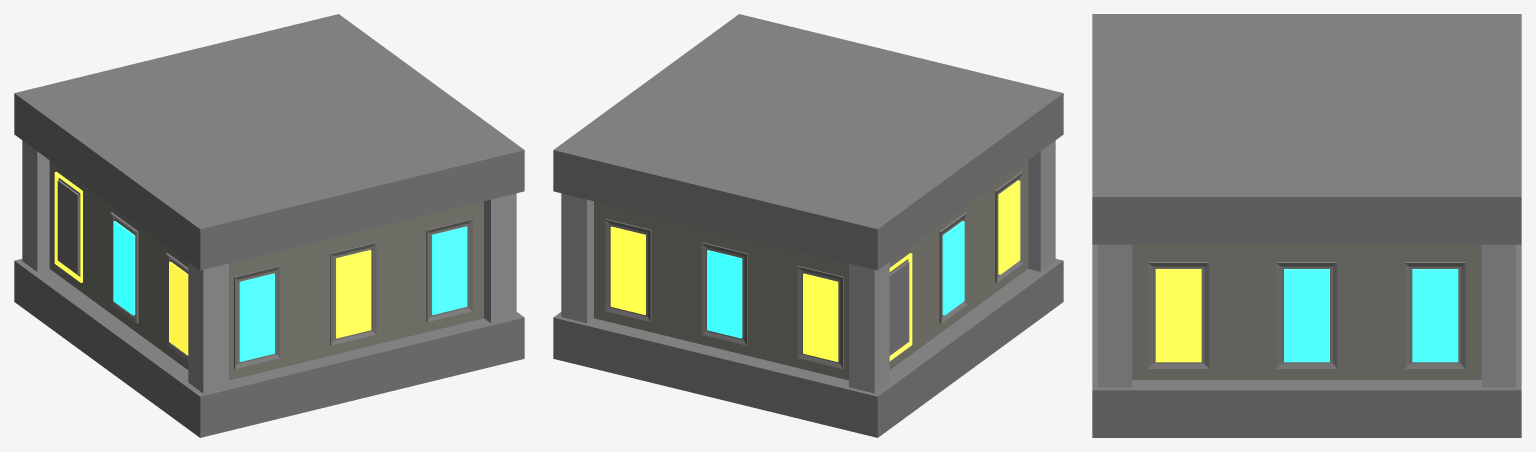
3 views of the same model, side by side, from view 1: azimuth 30°, elevation 25°; view 2: azimuth 150°, elevation 25°; view 3: azimuth 270°, elevation 25° (orthographic). The views are drawn at different scales.
Parts seen in each view (by area): view 1: Cube.014, Cube.002, Cube.013, Cube.016, Cube.004, Cube.005, Cube.006, Cube.015, Cube.017, Cube.010, Cube.012, Cube.011; view 2: Cube.014, Cube.002, Cube.013, Cube.017, Cube.003, Cube, Cube.001, Cube.018, Cube.016, Cube.010, Cube.011, Cube.012; view 3: Cube.014, Cube.002, Cube.013, Cube.007, Cube.008, Cube.009, Cube.015, Cube.018.
Boxes of the visible parts, box(x1,y1,x2,y2) form: Cube.014: box(14, 14, 524, 270); Cube.002: box(49, 160, 483, 380); Cube.013: box(14, 259, 524, 437); Cube.016: box(188, 262, 228, 393); Cube.004: box(330, 242, 376, 345); Cube.005: box(426, 219, 472, 322); Cube.006: box(234, 266, 280, 368); Cube.015: box(484, 193, 516, 323); Cube.017: box(22, 140, 49, 271); Cube.010: box(110, 212, 138, 323); Cube.012: box(54, 171, 82, 282); Cube.011: box(165, 253, 188, 360); Cube.014: box(553, 14, 1063, 270); Cube.002: box(594, 160, 1028, 380); Cube.013: box(553, 259, 1063, 437); Cube.017: box(849, 262, 889, 393); Cube.003: box(701, 242, 747, 345); Cube: box(605, 219, 651, 322); Cube.001: box(797, 266, 843, 368); Cube.018: box(561, 193, 593, 323); Cube.016: box(1028, 140, 1055, 271); Cube.010: box(939, 212, 967, 323); Cube.011: box(995, 171, 1023, 282); Cube.012: box(889, 253, 912, 360); Cube.014: box(1092, 14, 1521, 244); Cube.002: box(1132, 244, 1481, 379); Cube.013: box(1092, 244, 1521, 437); Cube.007: box(1148, 262, 1209, 368); Cube.008: box(1404, 262, 1465, 368); Cube.009: box(1276, 262, 1337, 368); Cube.015: box(1098, 244, 1132, 387); Cube.018: box(1481, 244, 1515, 387).
Size of the model in its own units: 13.28 by 8.16 by 13.17.
